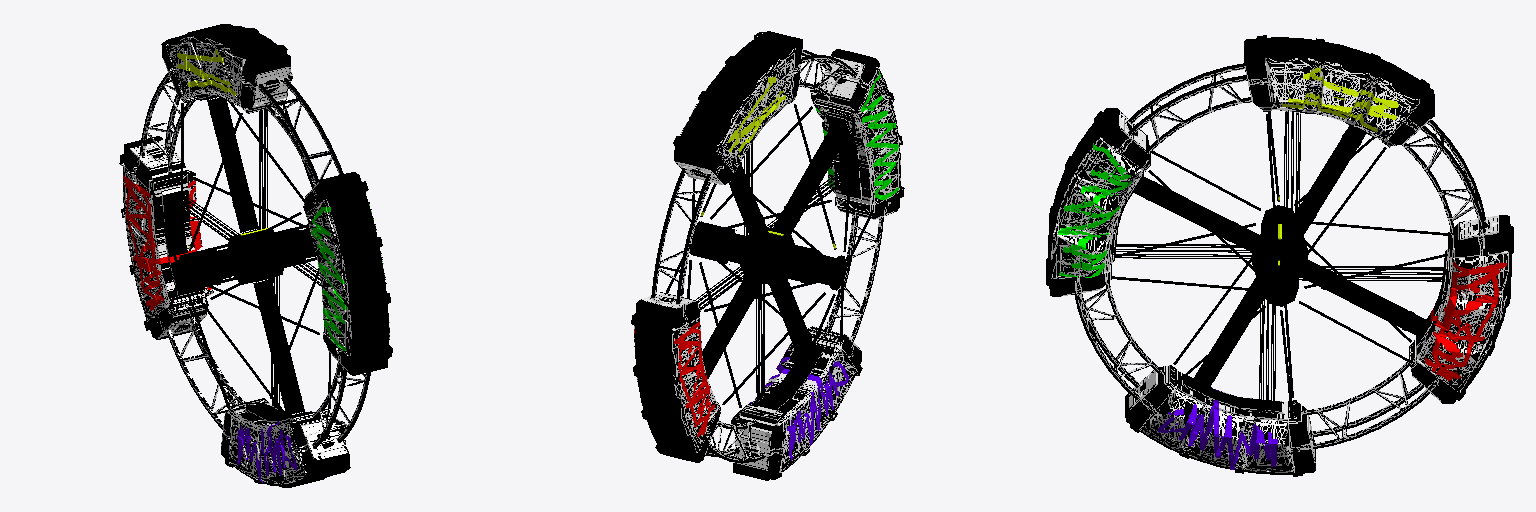
3 views of the same model, side by side, from view 1: azimuth 30°, elevation 25°; view 2: azimuth 150°, elevation 25°; view 3: azimuth 270°, elevation 25° (orthographic).
Bounding box in the file's own units: 16.94 × 49.16 × 49.16.
1 materials, 1 textured.